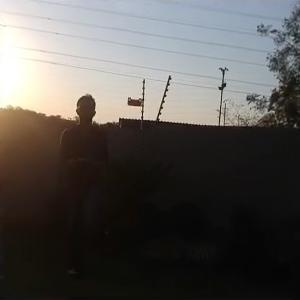follow: (55, 91, 115, 281)
